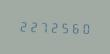five: (57, 20, 66, 34)
seven: (37, 19, 46, 33)
six: (67, 20, 76, 34)
two: (17, 18, 26, 33), (47, 19, 56, 34), (27, 19, 36, 33)
zero: (77, 20, 86, 35)
